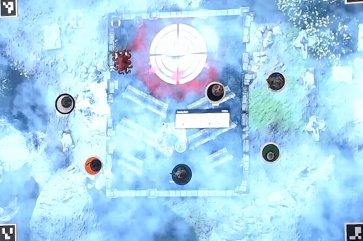black: (204, 82, 227, 105)
blue: (265, 70, 288, 93)
brown_turquoise: (168, 164, 191, 187)
giant_red_octopus: (111, 49, 133, 77)
green: (260, 141, 283, 164)
orange: (83, 155, 106, 178)
white: (53, 92, 76, 115)
